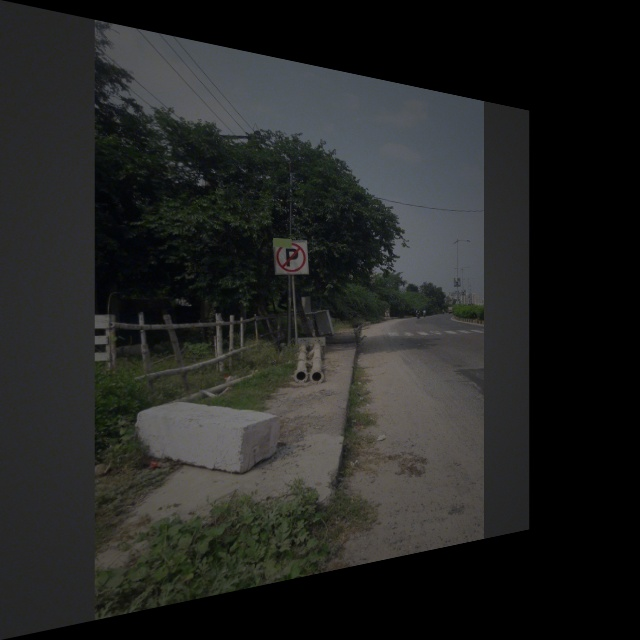No_Parking: (272, 237, 310, 278)
